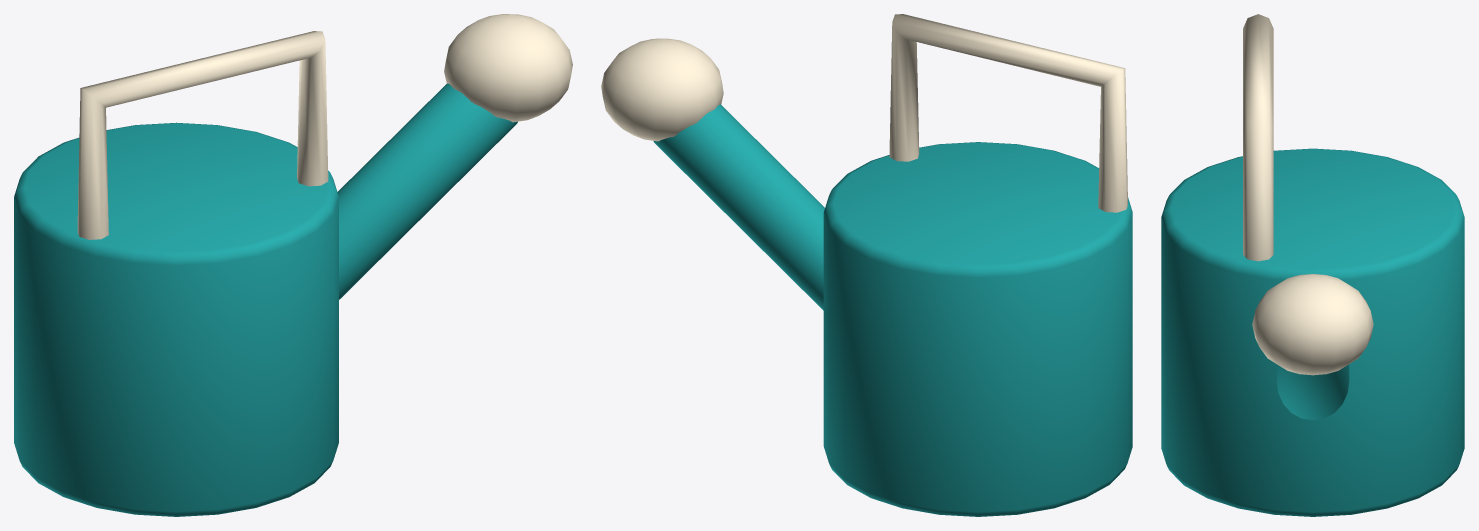
File: WateringCan.fbx
3 renders of one model, left to right at view 1: azimuth 30°, elevation 25°; view 2: azimuth 150°, elevation 25°; view 3: azimuth 270°, elevation 25°, orthographic. The views are drawn at different scales.
Parts seen in each view (by area): view 1: GEO-Body; view 2: GEO-Body; view 3: GEO-Body.
Part boxes in pixels (x1,y1,x2,y2): GEO-Body: (14, 14, 572, 516); GEO-Body: (601, 14, 1132, 516); GEO-Body: (1161, 14, 1464, 516).
Size of the model in its own units: 0.94 by 0.7027 by 0.5.
